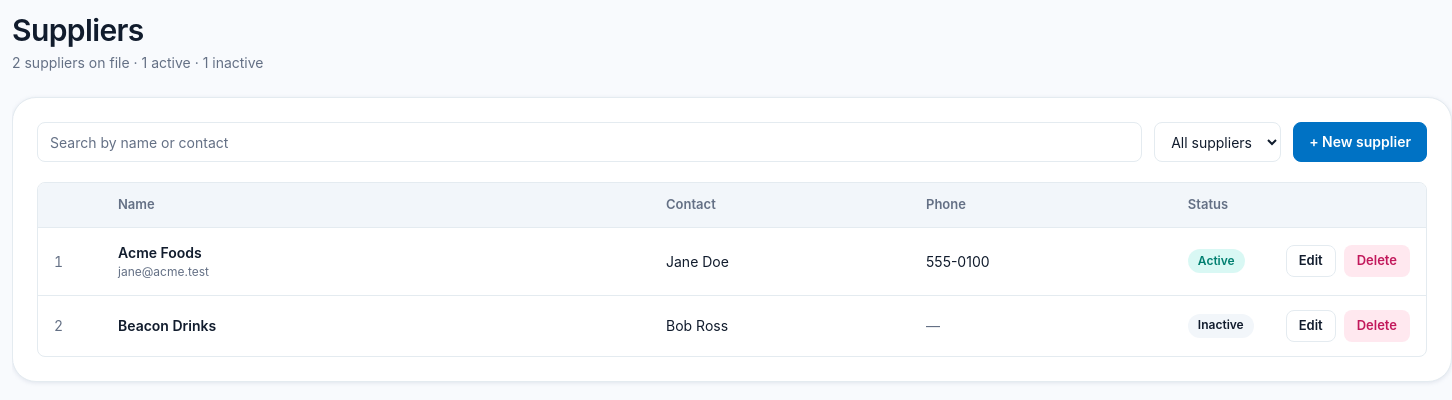
Test case: SuppliersPage — search and status filter › filters rows by supplier name
Type "beacon" into the search field named "Search suppliers" at [590, 142], box [37,122,1142,162]
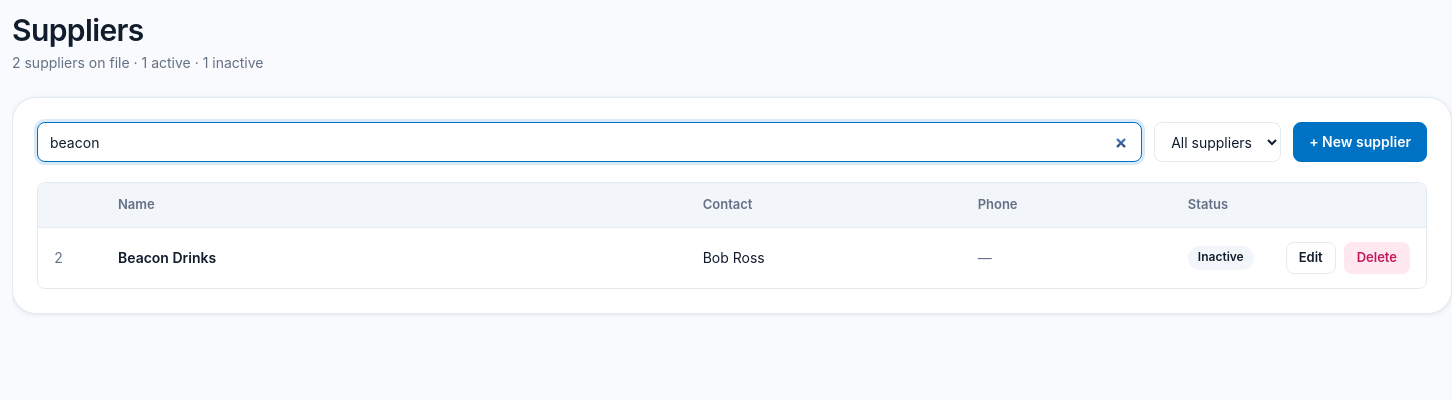
Expected: the text "Beacon Drinks" is shown, [118,249,216,266]
Result: the text "Acme Foods" is gone
